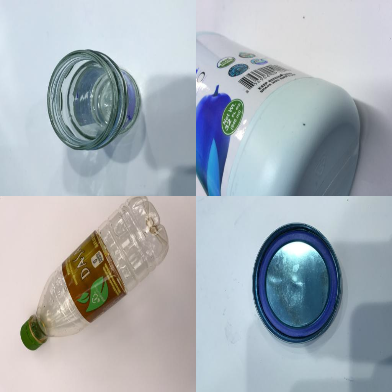glass: (46, 50, 141, 150)
metal: (251, 222, 341, 343)
plastic: (196, 28, 362, 195), (18, 196, 170, 351)
